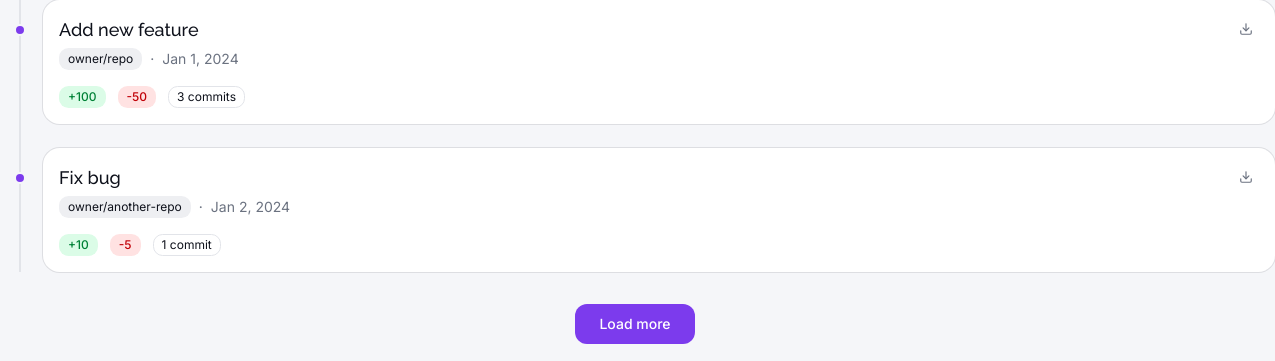
Test: FeedClient › should hide Load more button after loading all PRs
Click the button "Load more" at {"x": 635, "y": 324}, box [575, 304, 694, 344]
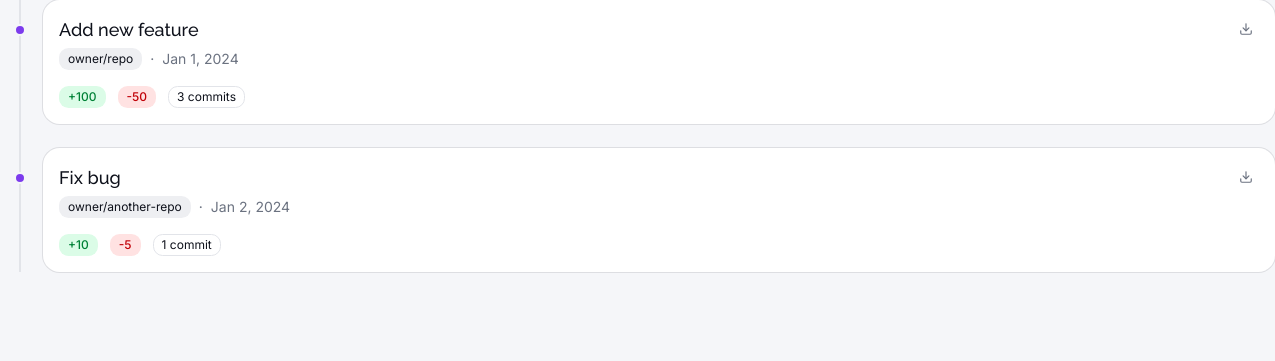
expect the button "Load more" is gone: met
